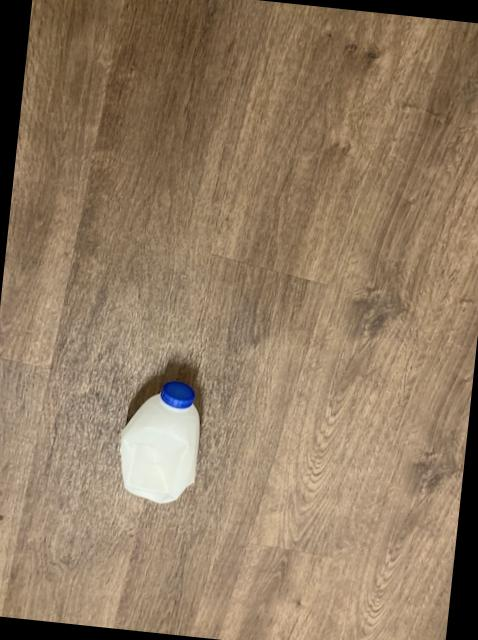plastic: (119, 383, 198, 505)
